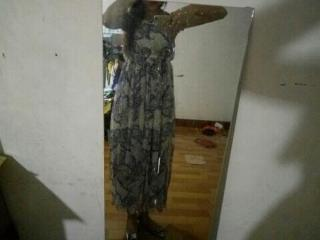sling: (107, 5, 177, 214)
